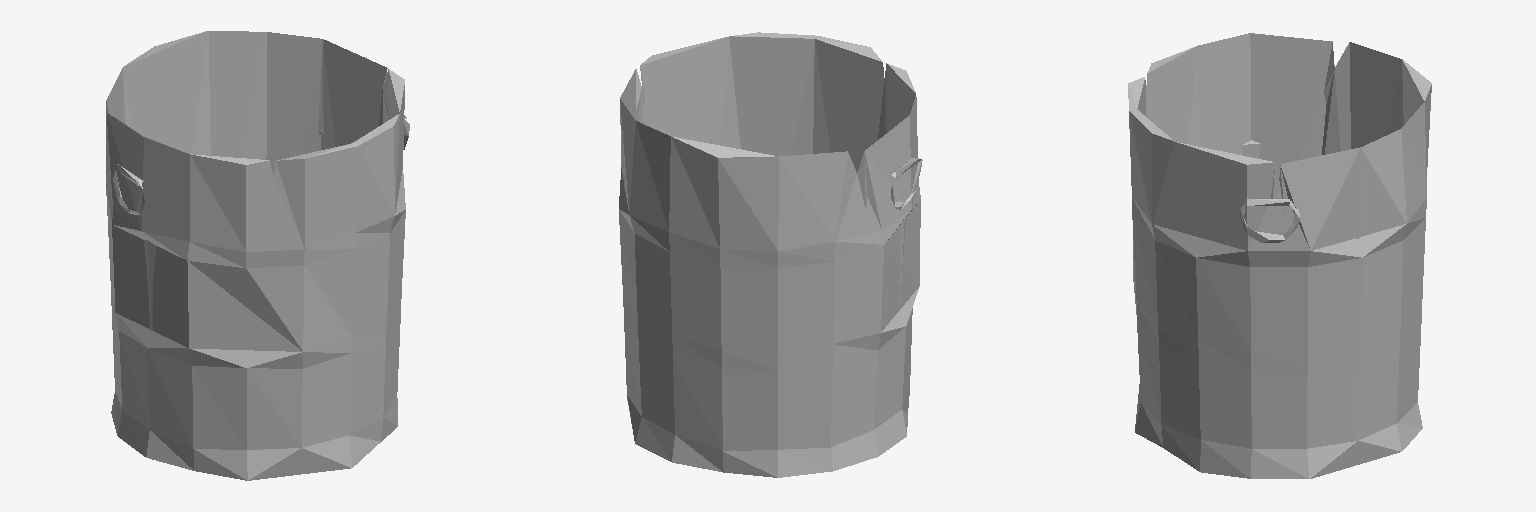
Rendered from Bucket_LOD2.obj.
The picture shows the model from 3 angles: view 1: azimuth 30°, elevation 25°; view 2: azimuth 150°, elevation 25°; view 3: azimuth 270°, elevation 25°; orthographic projection.
Parts seen in each view (by area): view 1: Bucket; view 2: Bucket; view 3: Bucket.
Boxes of the visible parts, box(x1,y1,x2,y2) form: Bucket: box(106, 31, 409, 480); Bucket: box(619, 32, 922, 477); Bucket: box(1128, 33, 1431, 478).
Size of the model in its own units: 0.5025 by 0.5906 by 0.4889.